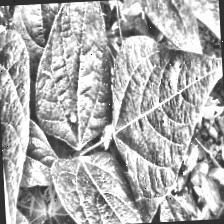Bean Rust: (105, 33, 224, 187), (26, 1, 114, 150), (53, 149, 146, 224)
